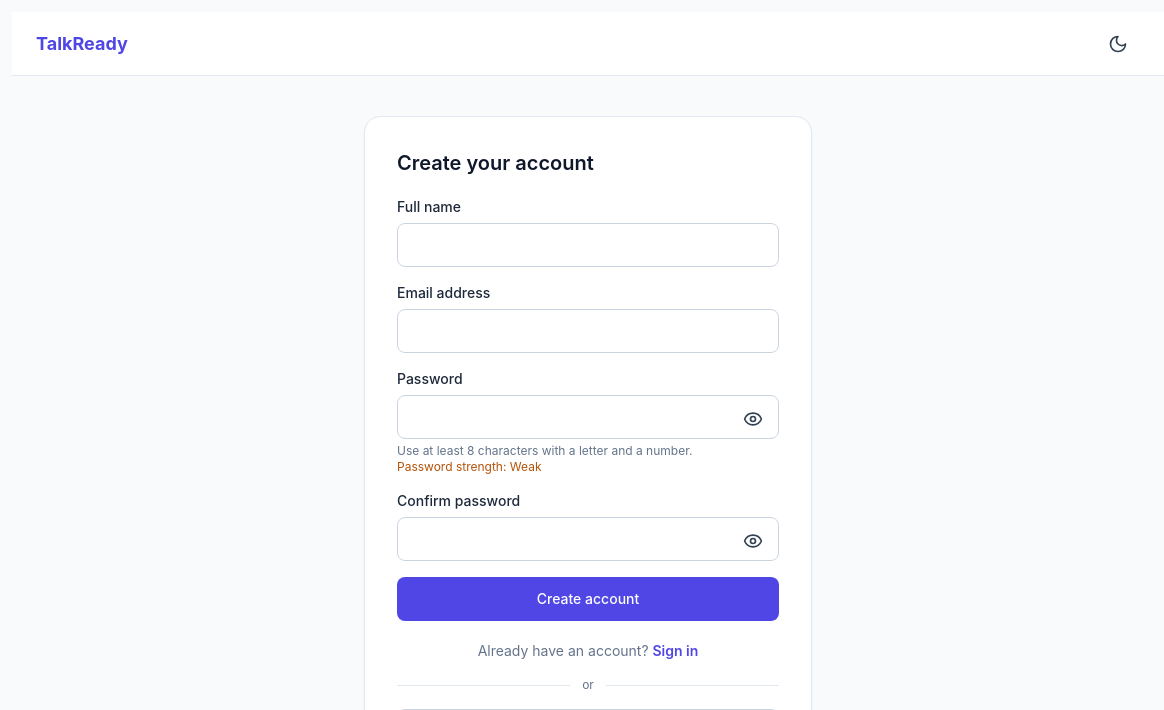
Test: authentication pages › registers and continues into an authenticated session
The width and height of the screenshot is (1164, 710).
In the field labelled "Full name": (588, 245) 397,223 -> 779,267, type "Sam User"
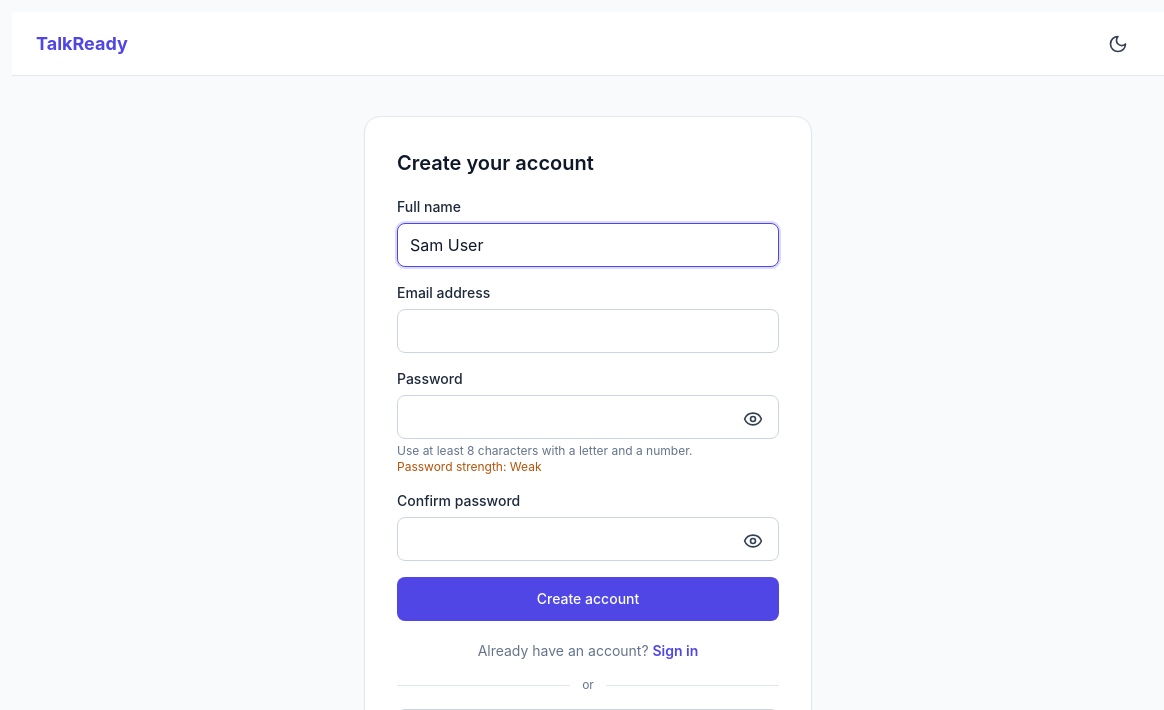
In the field labelled "Email address": (588, 331) 397,309 -> 779,353, type "sam@example.com"
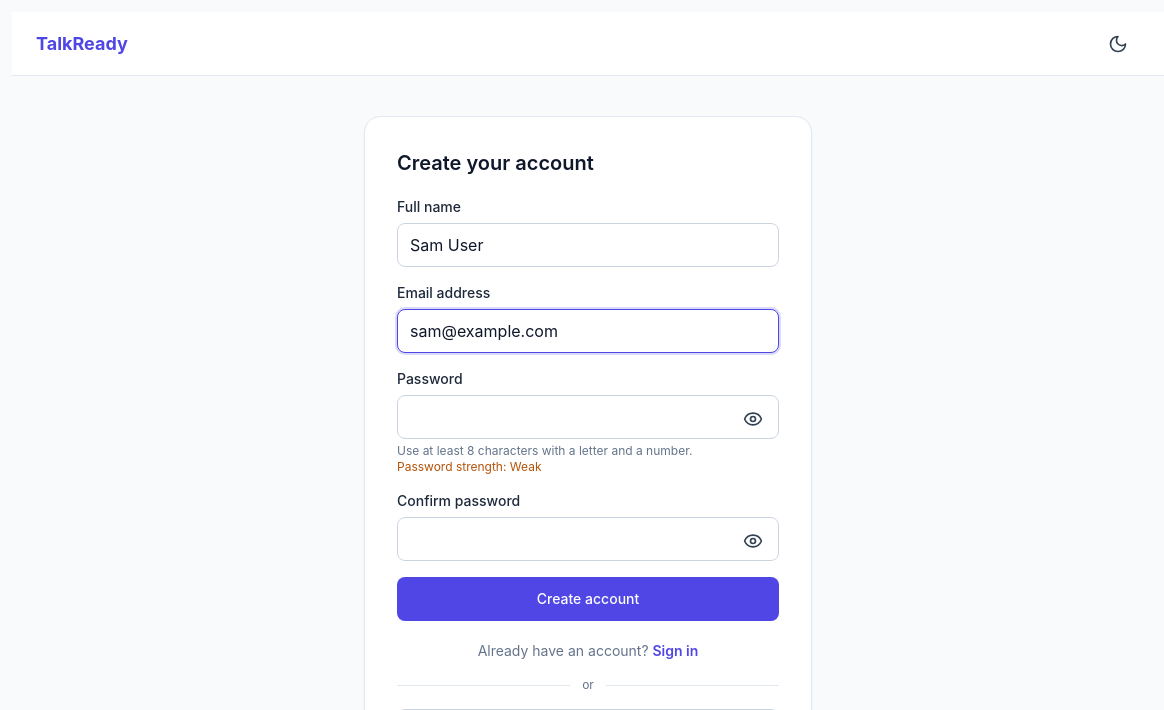
In the password field labelled "Password": (588, 417) 397,395 -> 779,439, type "Secure123"
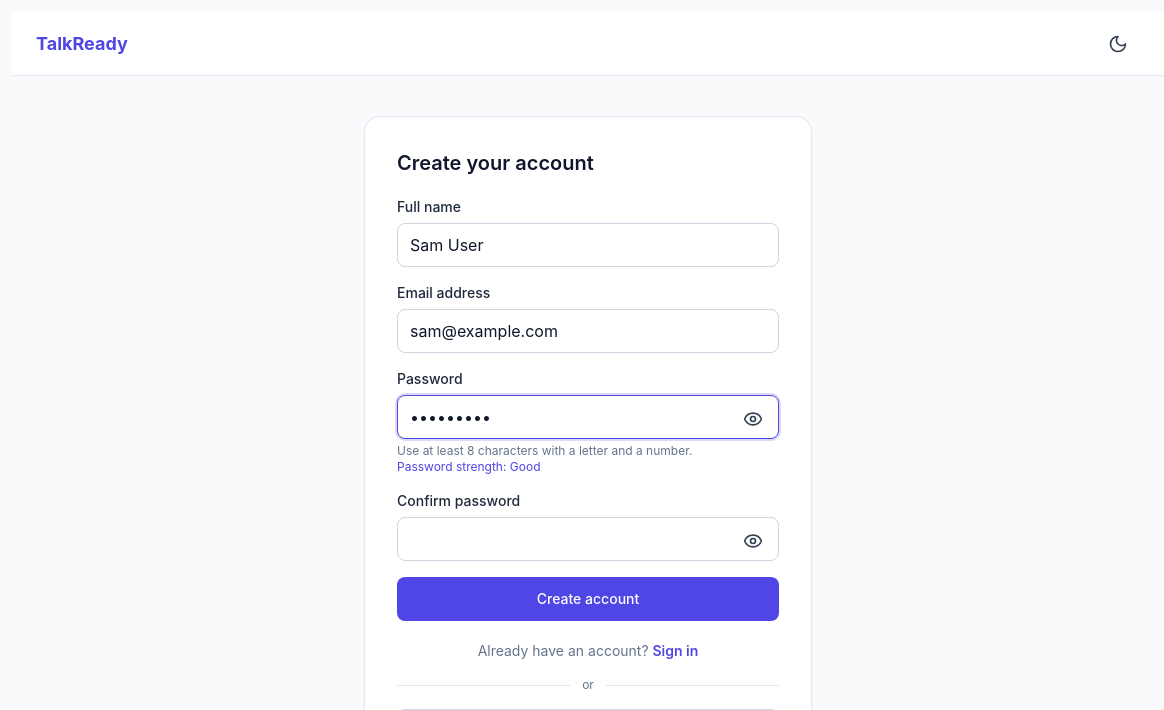
In the password field labelled "Confirm password": (588, 539) 397,517 -> 779,561, type "Secure123"
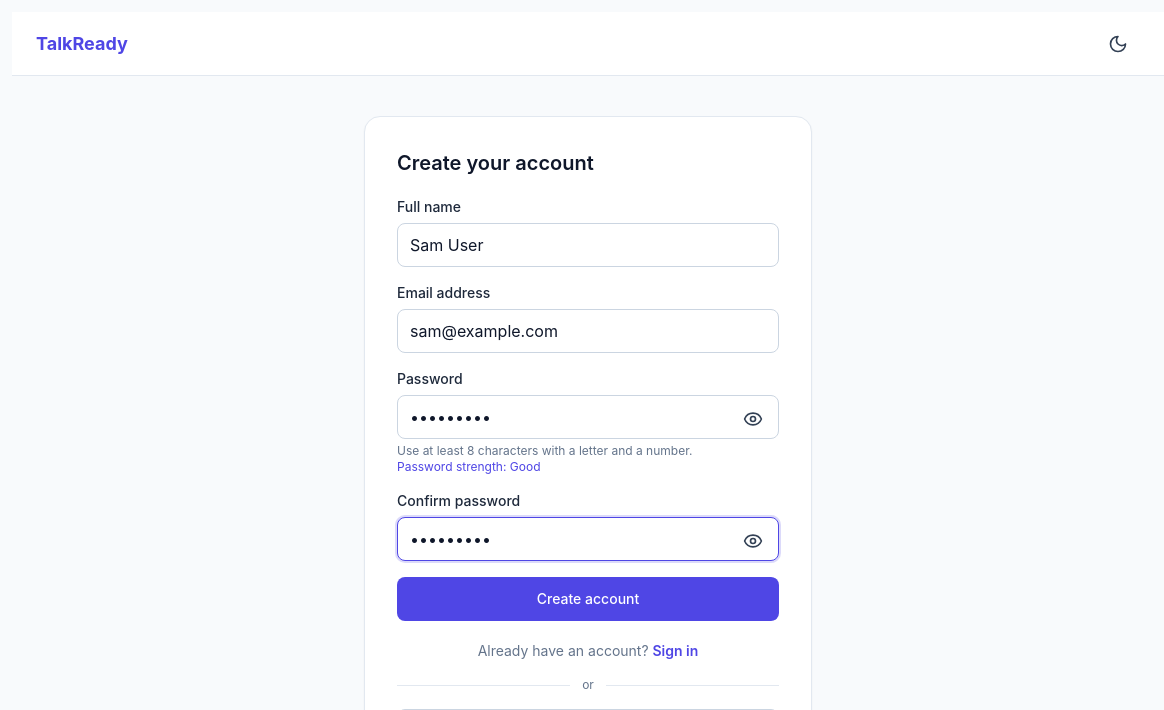
Click the button "Create account": (588, 599) 397,577 -> 779,621
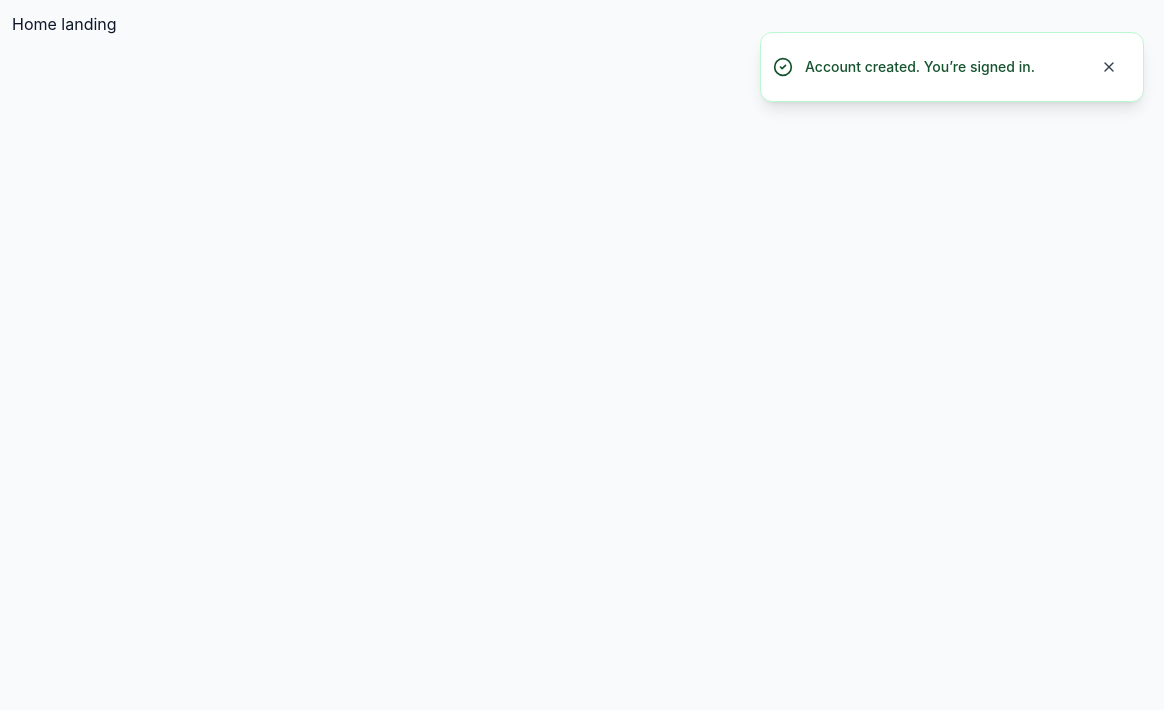
Expected: the text "Home landing" is shown, 12,14 -> 117,34
